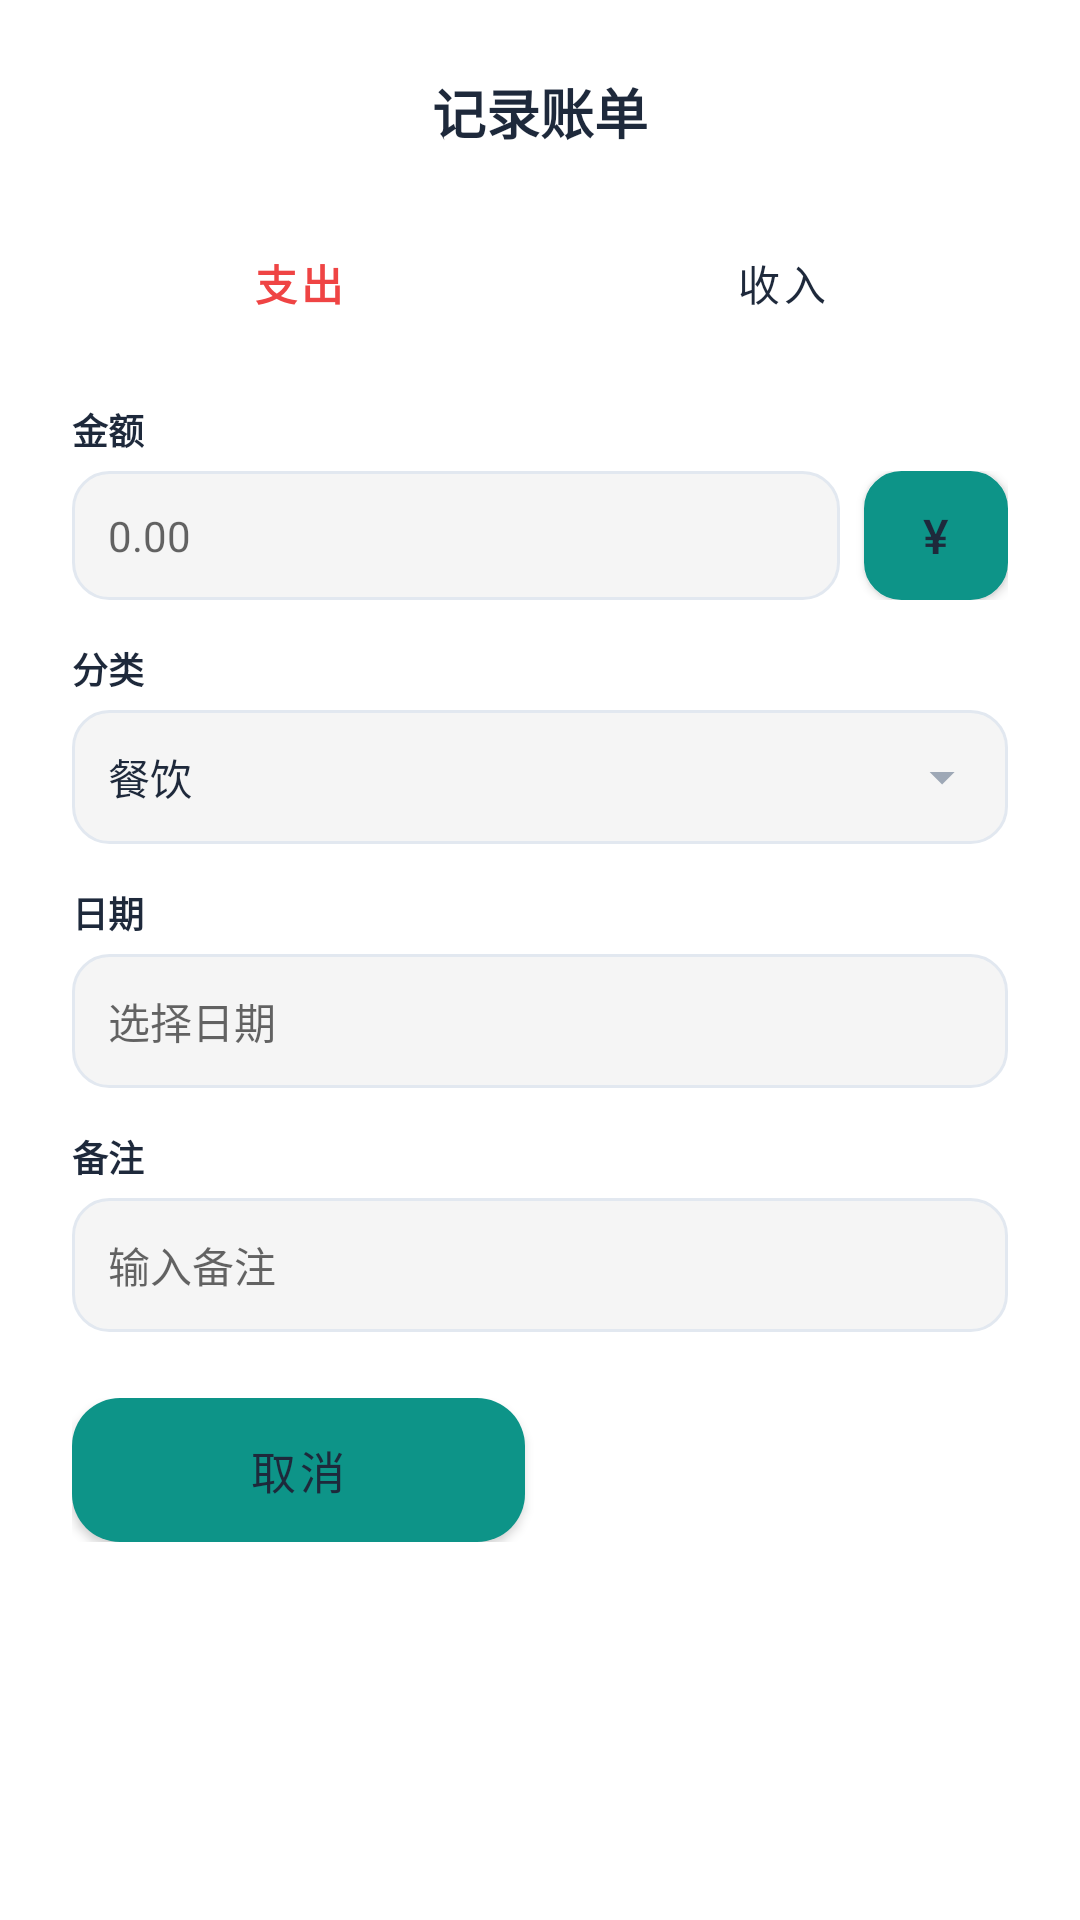

Icon click points for this 1080*1920 phone screenshot, format point (x, y):
dropdown arrow: point (942, 778)
